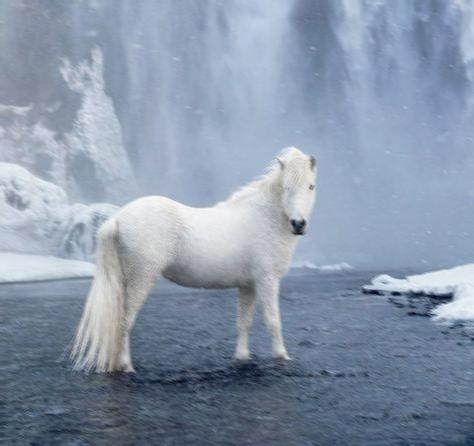horse: (56, 145, 318, 374)
